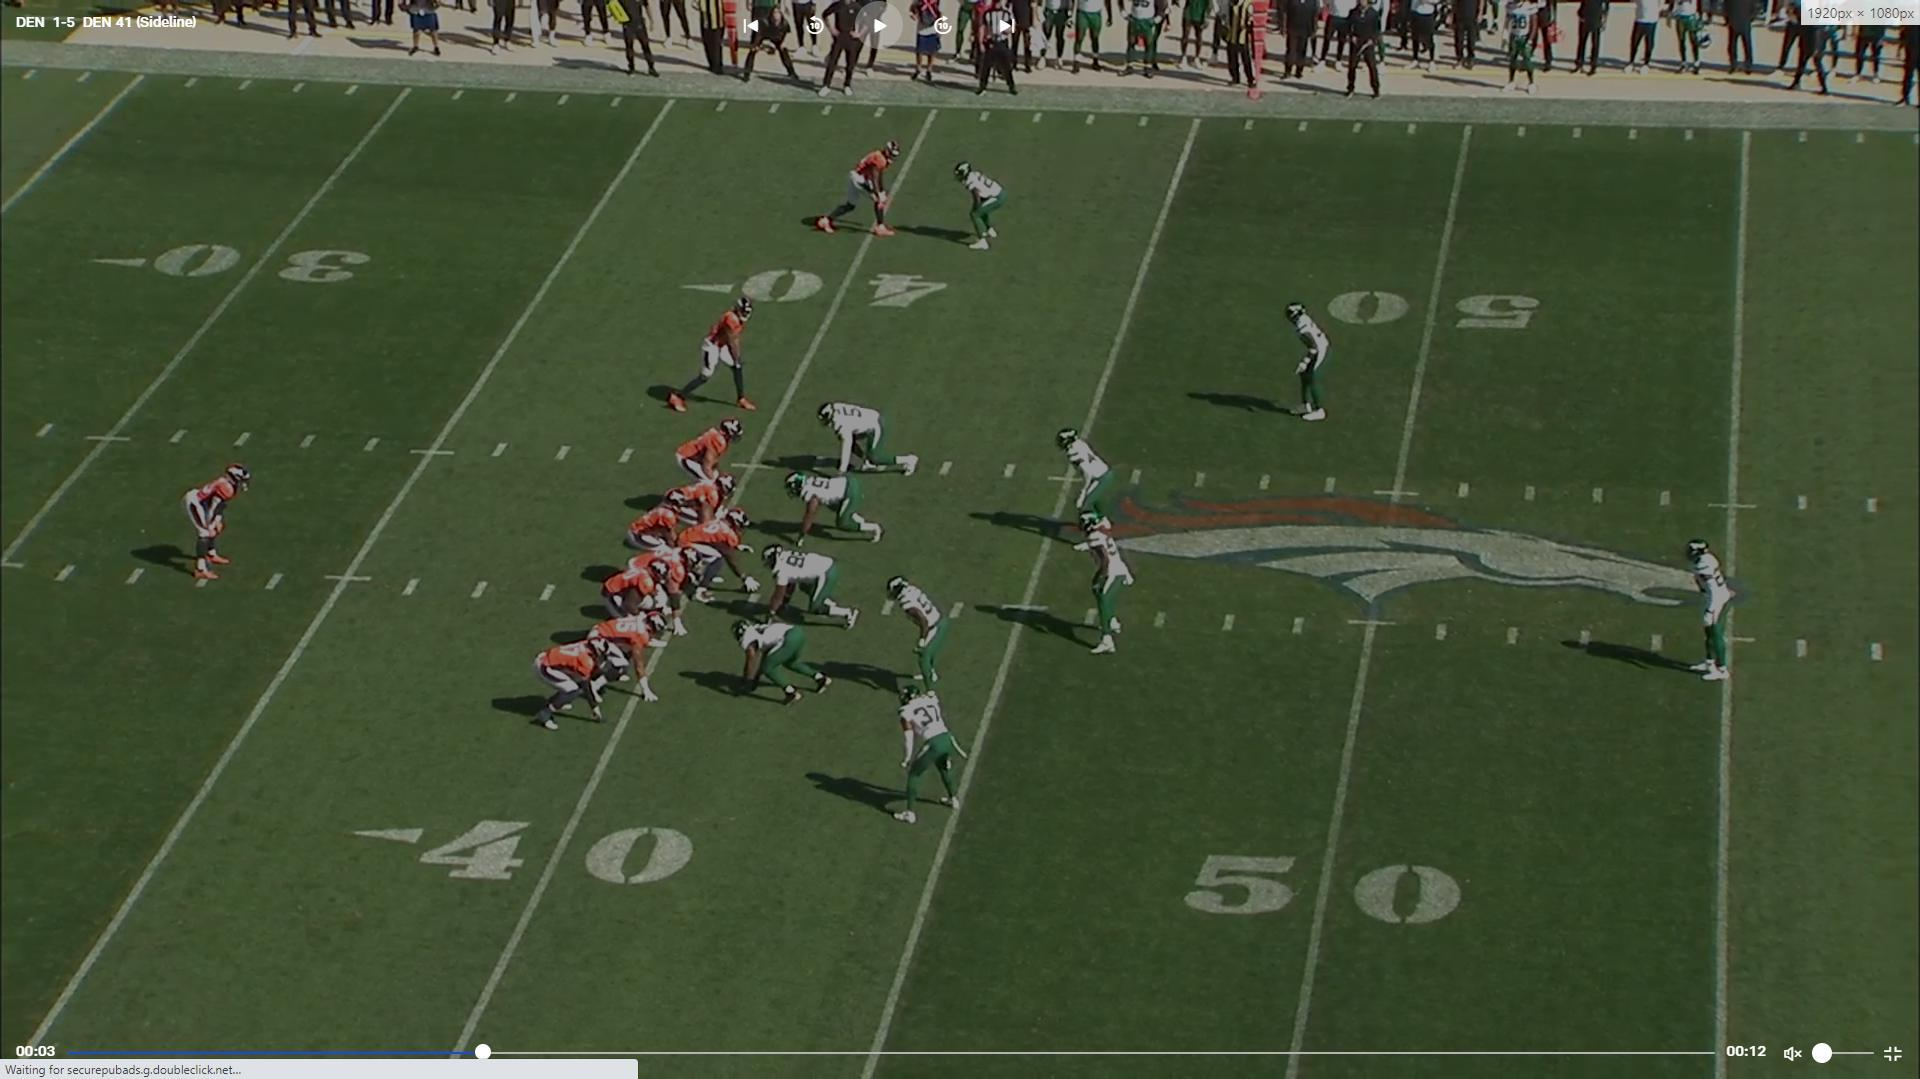player: (669, 289, 765, 416), (885, 687, 960, 837), (817, 133, 911, 242), (729, 617, 833, 710), (1680, 539, 1741, 695), (1076, 509, 1135, 670), (181, 456, 254, 582), (528, 632, 615, 735), (588, 604, 672, 707), (764, 547, 864, 633), (817, 400, 923, 481), (1053, 424, 1114, 557), (788, 472, 890, 549), (884, 571, 947, 694), (679, 507, 754, 606), (1281, 297, 1332, 428), (595, 551, 676, 630), (946, 155, 1006, 257), (633, 543, 695, 638), (677, 415, 751, 487), (667, 469, 743, 524), (624, 499, 689, 553)
ref: (972, 0, 1024, 107)
